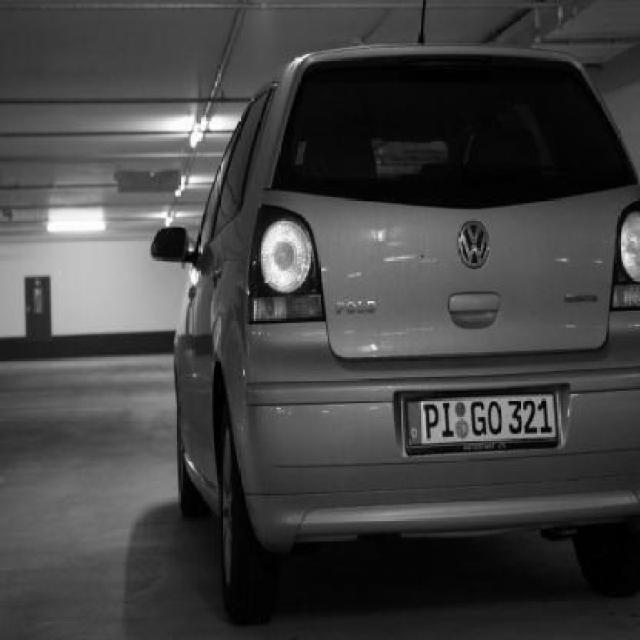car: (149, 51, 640, 620)
license-plate: (402, 390, 550, 448)
